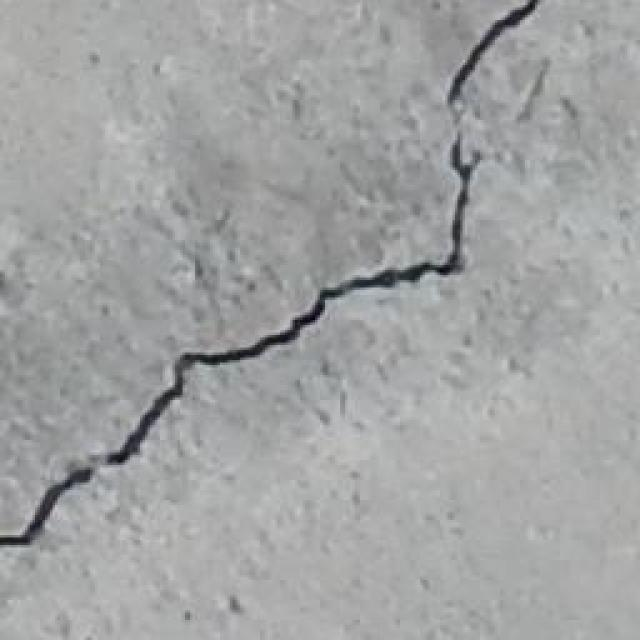concrete-crack: (0, 0, 540, 548)
